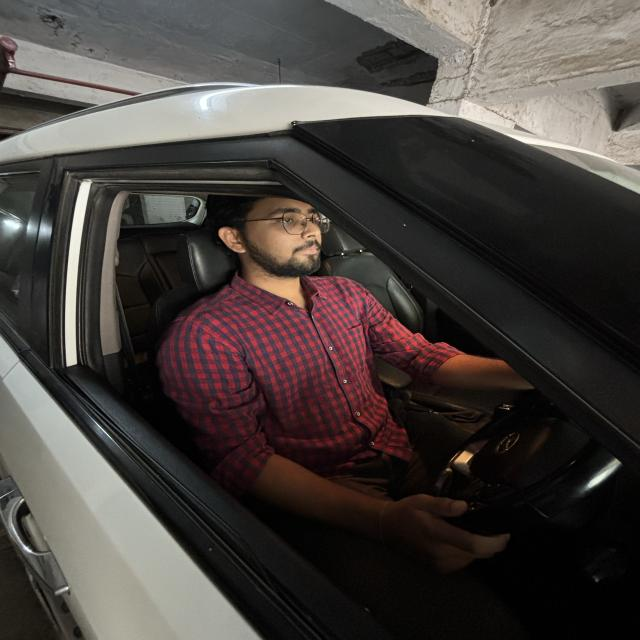no-seatbelt: (206, 285, 416, 451)
